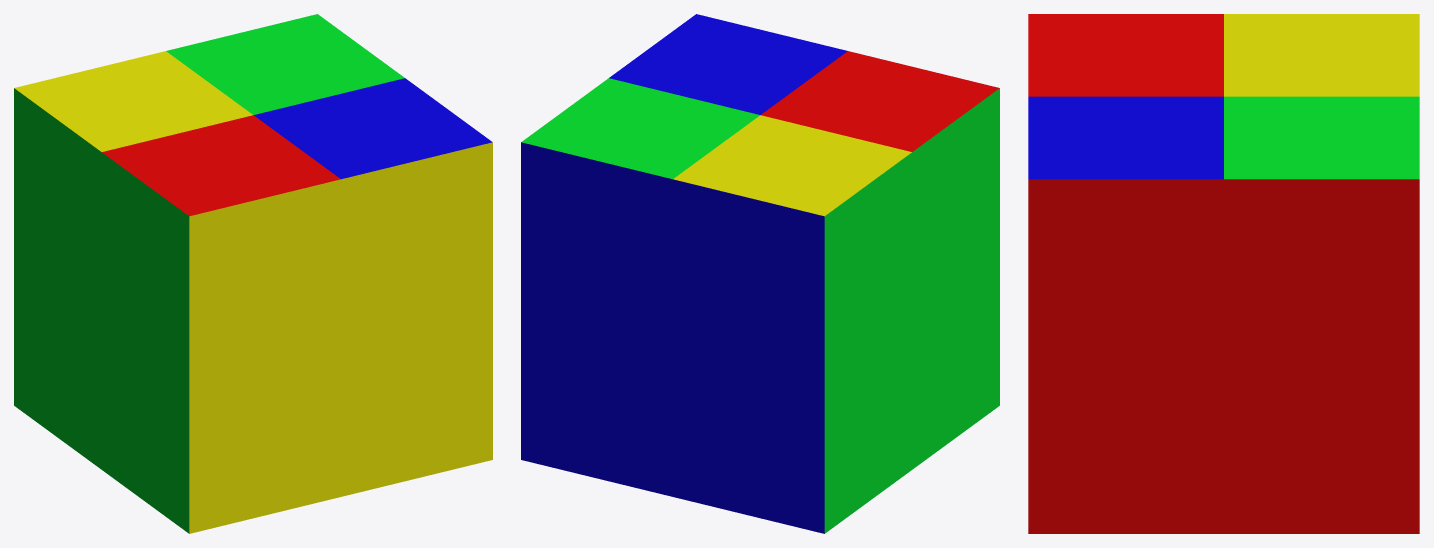
Rendered from CyberAttackerPlacement_6SidedDice.glb.
3 views of the same model, side by side, from view 1: azimuth 30°, elevation 25°; view 2: azimuth 150°, elevation 25°; view 3: azimuth 270°, elevation 25° (orthographic). The views are drawn at different scales.
Parts seen in each view (by area): view 1: Cube; view 2: Cube; view 3: Cube.
Boxes of the visible parts, x1,y1,x2,y2 form: Cube: [14, 14, 492, 533]; Cube: [521, 14, 999, 533]; Cube: [1028, 14, 1419, 533].
Size of the model in its own units: 2 by 2 by 2.
